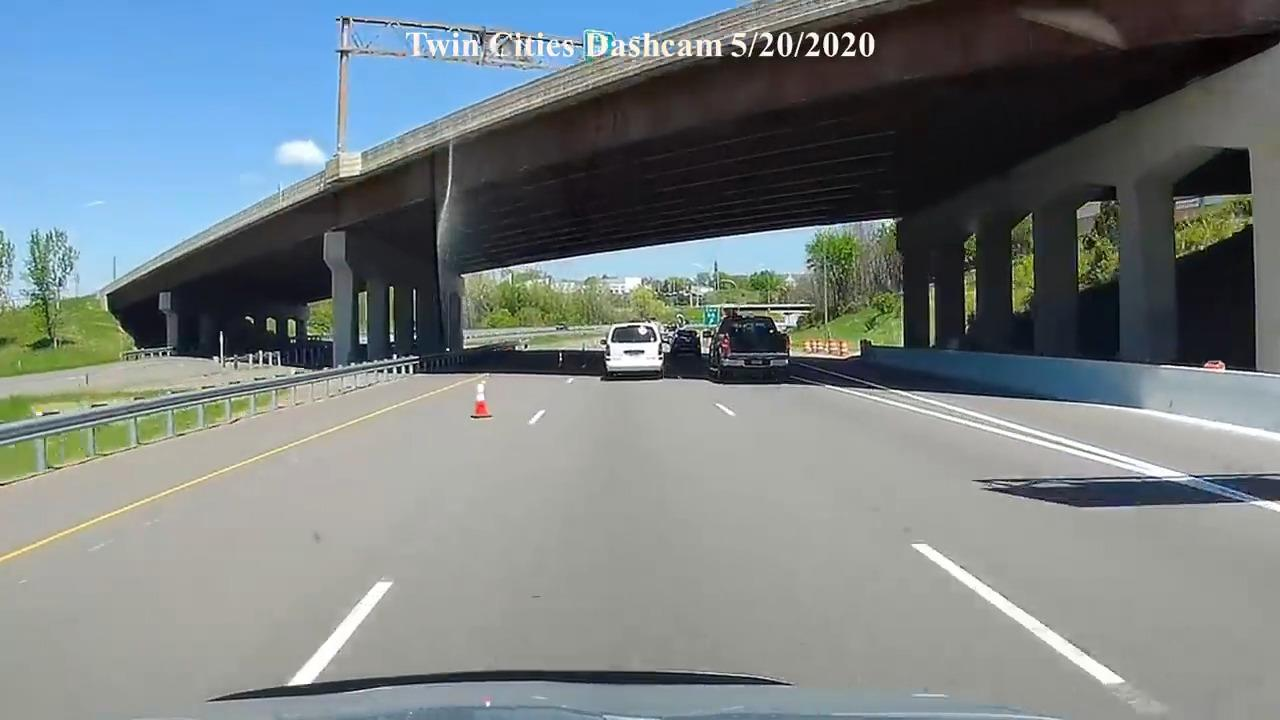car: (706, 312, 791, 385), (600, 321, 670, 380), (669, 328, 701, 359)
traffic cone: (469, 378, 493, 419)
